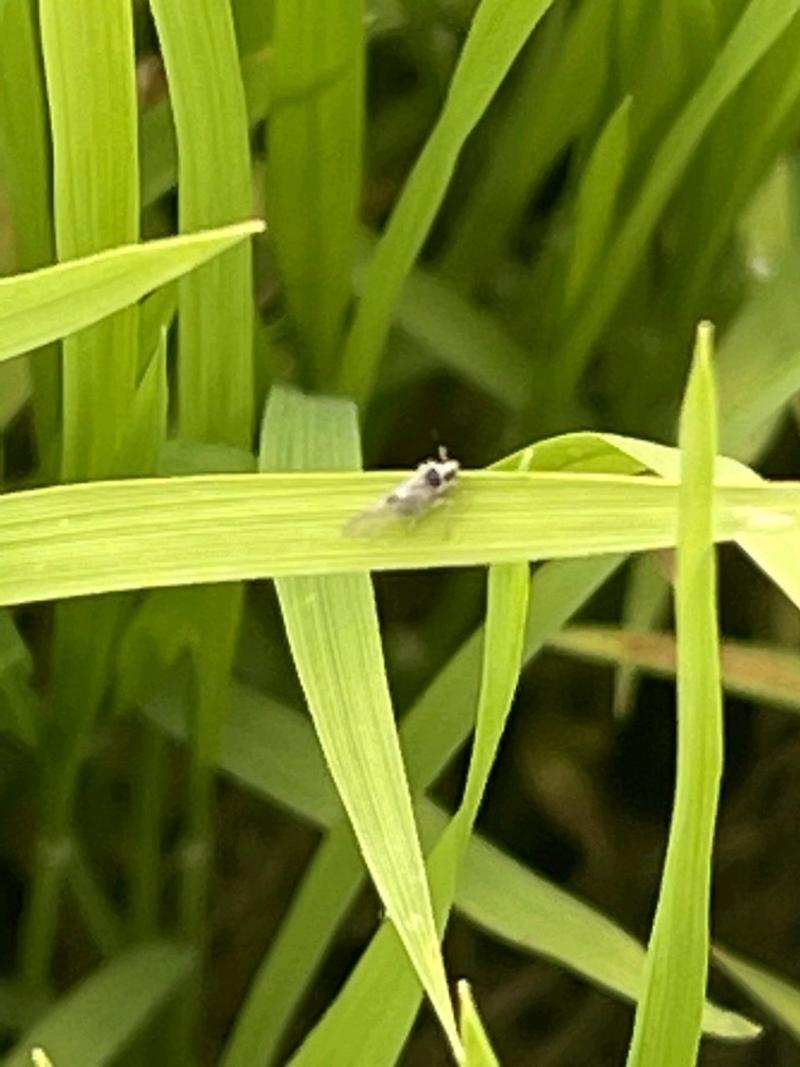Delphacidae: (340, 445, 463, 544)
